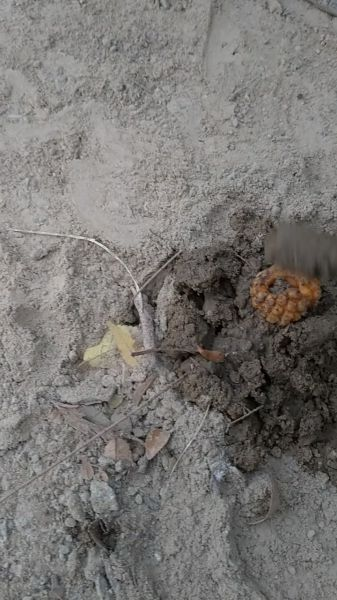eggs: (245, 258, 327, 331)
